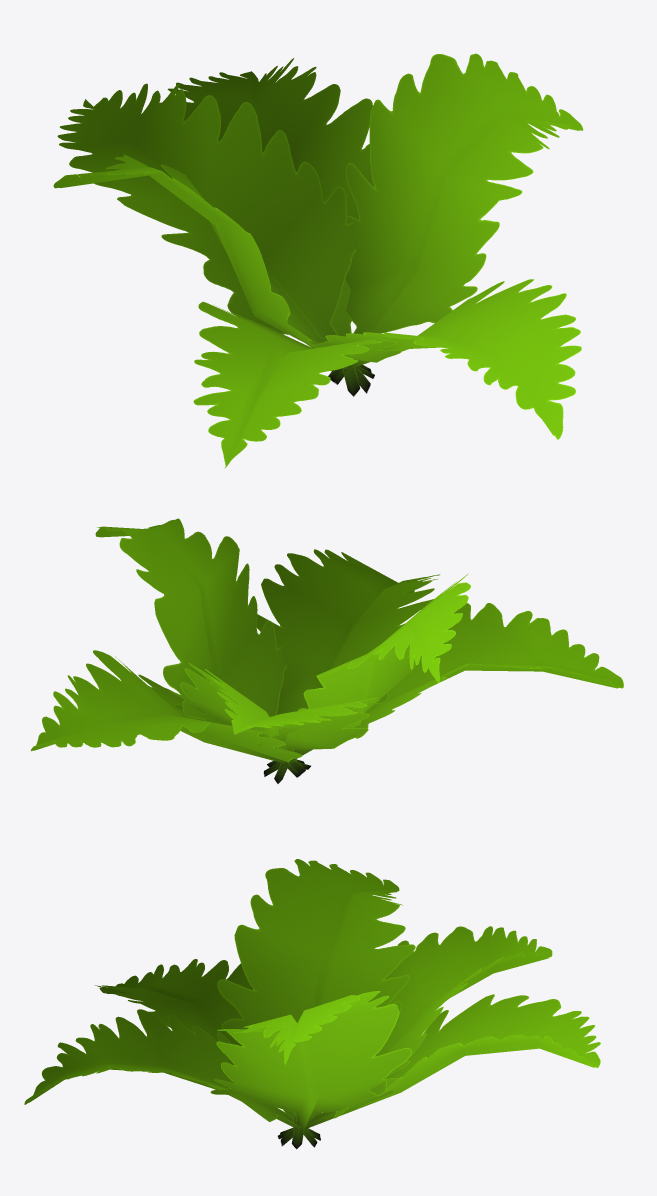
File: fern1_lod0_001.fbx
The picture shows the model from 3 angles, top to bottom: view 1: azimuth 30°, elevation 25°; view 2: azimuth 150°, elevation 25°; view 3: azimuth 270°, elevation 25°; orthographic projection. The views are drawn at different scales.
Parts seen in each view (by area): view 1: fern1_lod0.001; view 2: fern1_lod0.001; view 3: fern1_lod0.001.
Part boxes in pixels (<box>): fern1_lod0.001: <box>53,53,583,468</box>; fern1_lod0.001: <box>30,518,623,784</box>; fern1_lod0.001: <box>24,859,600,1149</box>.
Bounding box in the file's own units: 252 × 125 × 325.
